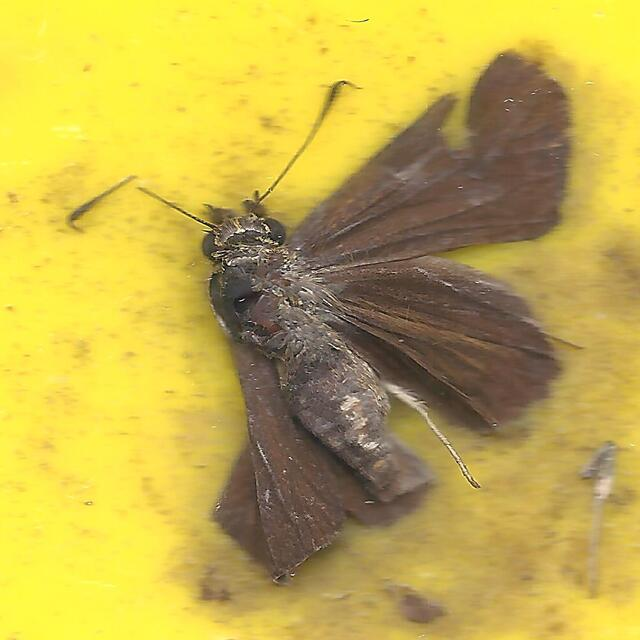Lepidoptera: (64, 53, 576, 587)
